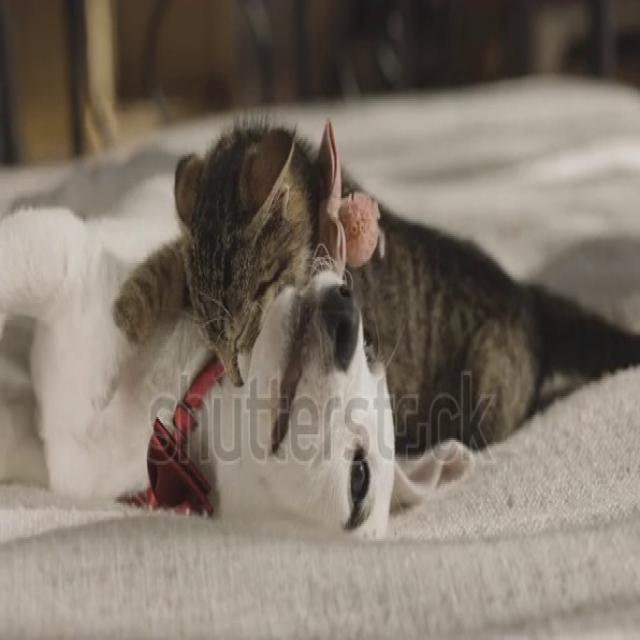normal_animals: (0, 108, 639, 543)
